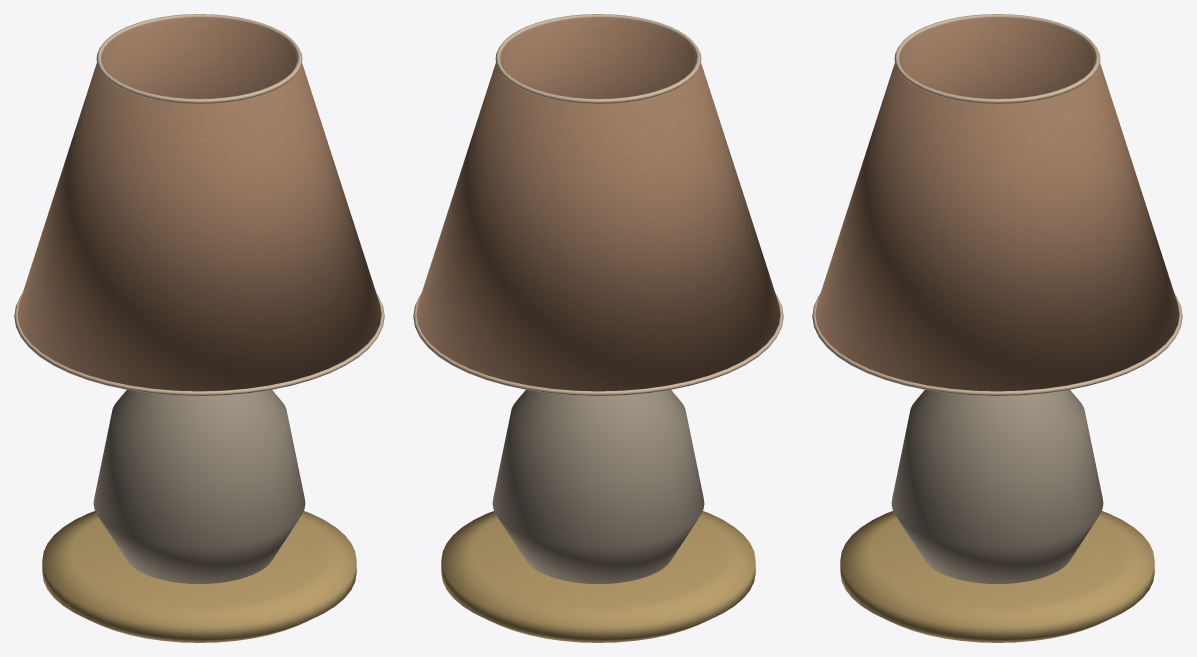
Rendered from traditional.table_lamp.gltf.
3 views of the same model, side by side, from view 1: azimuth 30°, elevation 25°; view 2: azimuth 150°, elevation 25°; view 3: azimuth 270°, elevation 25° (orthographic).
Parts seen in each view (by area): view 1: traditional.table_lamp.foot; view 2: traditional.table_lamp.foot; view 3: traditional.table_lamp.foot.
Part boxes in pixels (x1,y1,x2,y2): traditional.table_lamp.foot: (14,14,384,642); traditional.table_lamp.foot: (413,14,783,642); traditional.table_lamp.foot: (812,14,1182,642).
Bounding box in the file's own units: 0.294 × 0.4617 × 0.294.
5 materials, 1 textured.
